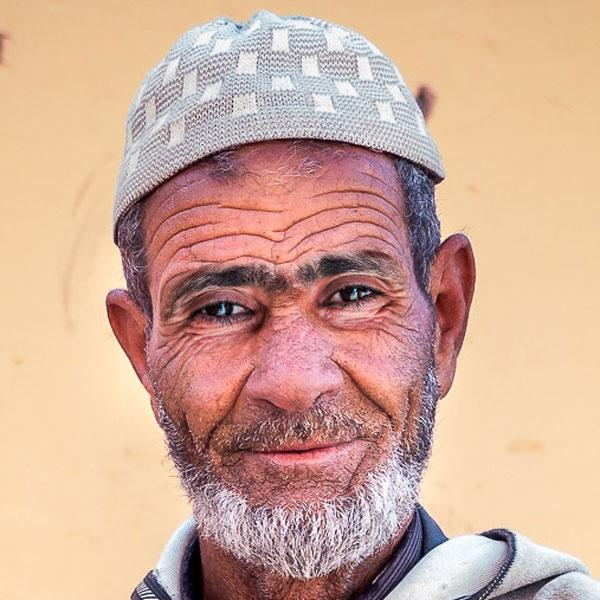Eyes: (312, 265, 396, 322), (174, 284, 265, 333)
